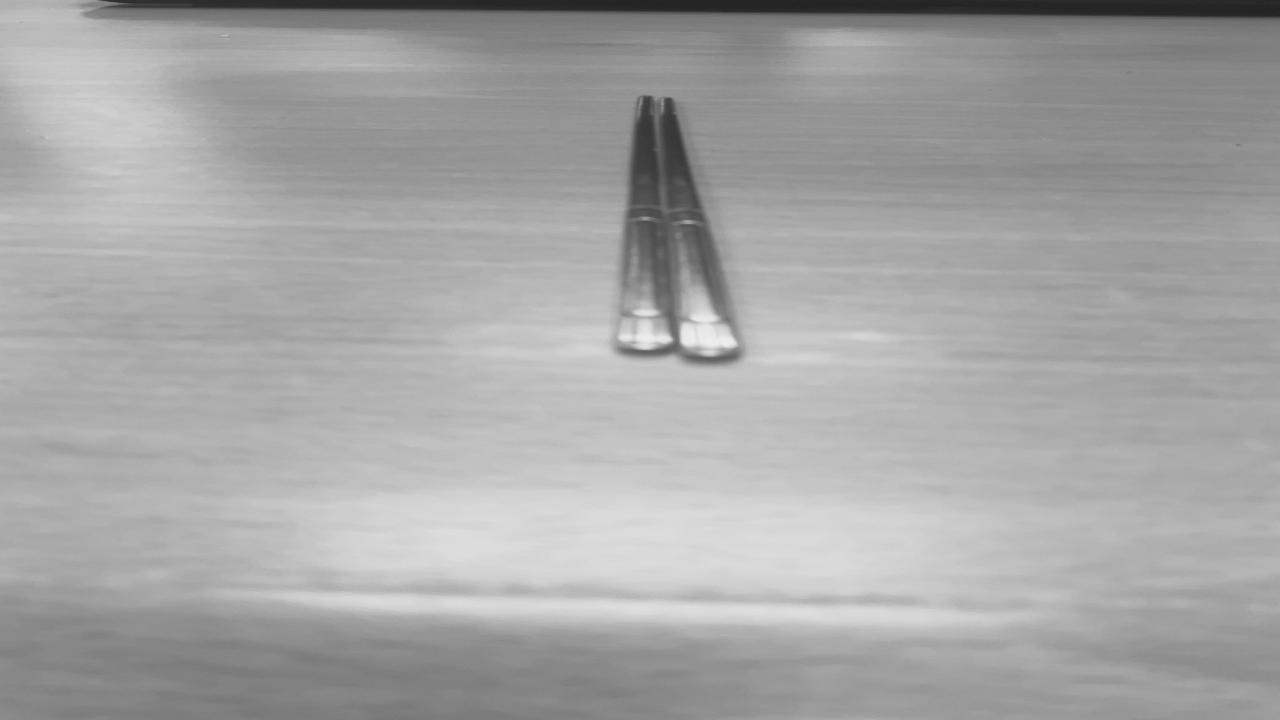chopstick: (618, 95, 739, 356)
